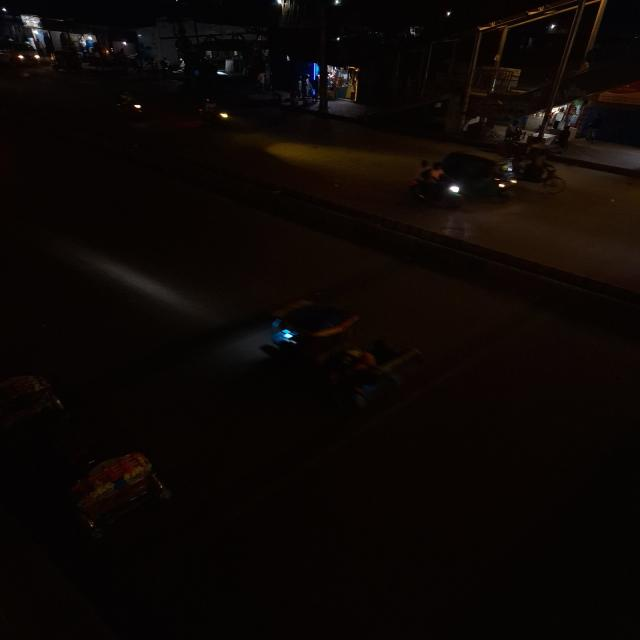car: (0, 38, 41, 68)
cng: (402, 150, 519, 197)
motorcycle: (402, 162, 469, 210), (194, 96, 234, 128), (111, 88, 149, 120)
rickshaw: (44, 444, 174, 542), (317, 334, 429, 409), (49, 50, 83, 74)
